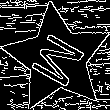M_SE: (24, 26, 90, 91)
